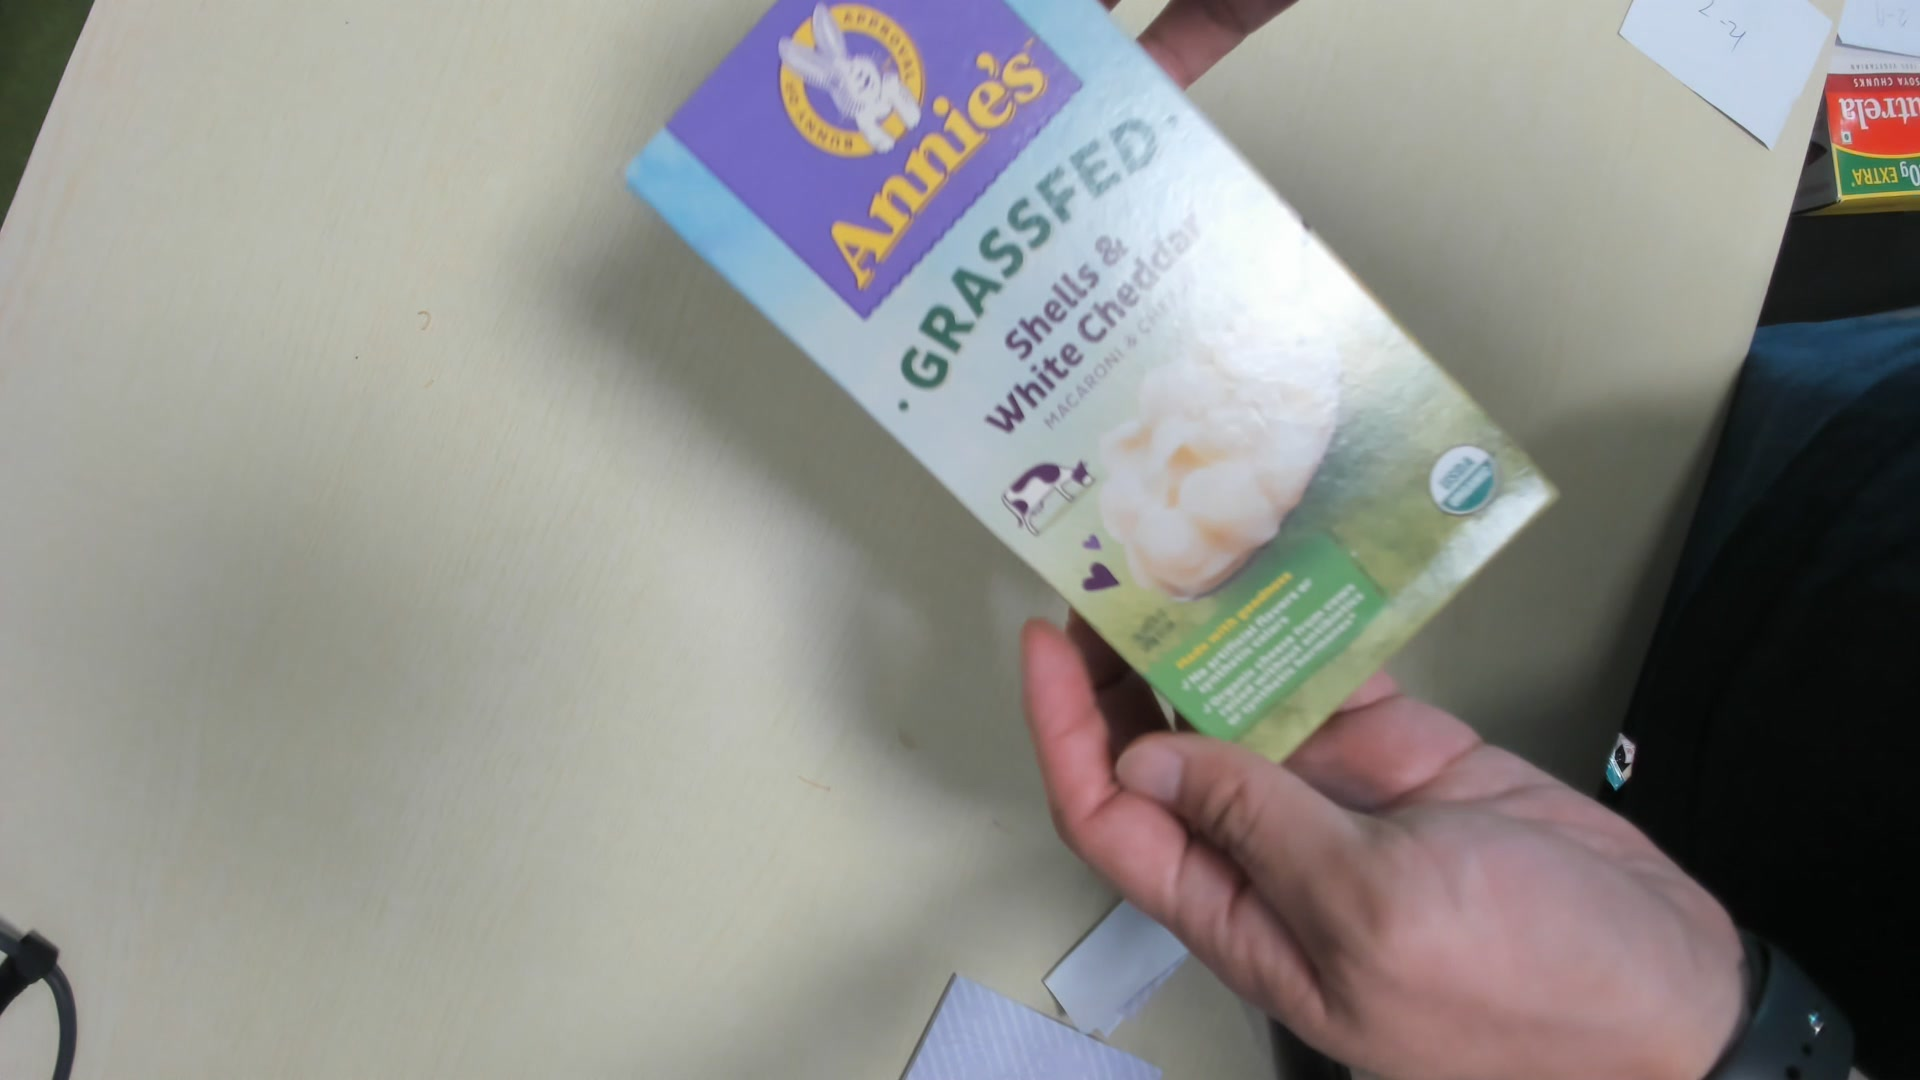InstantMeals_100_199g_NonHalal_NonHealthy: (622, 8, 1553, 754)
